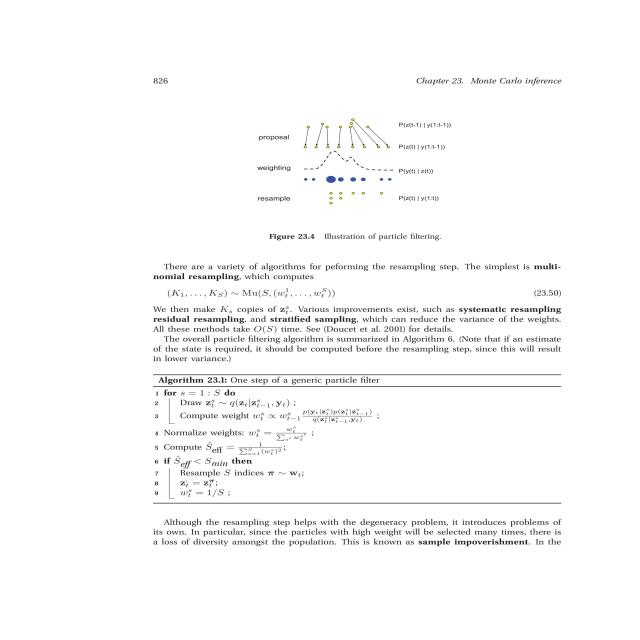diagram: (198, 111, 538, 251)
